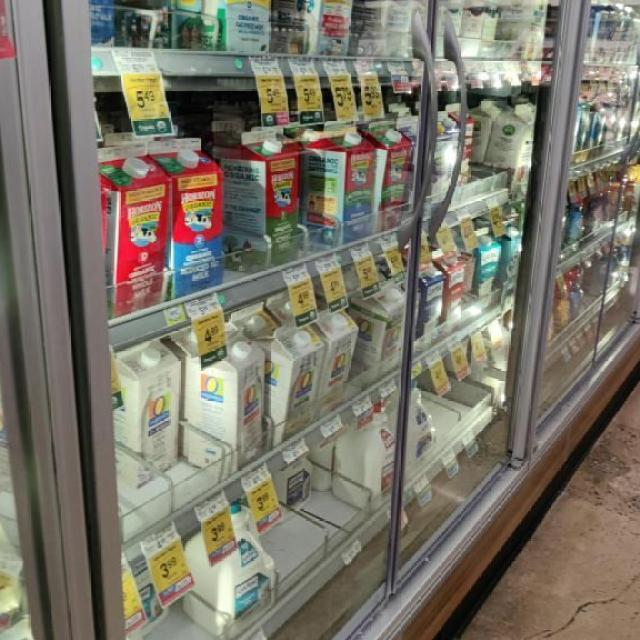Milk: (90, 138, 181, 309), (159, 140, 244, 301), (184, 514, 291, 640), (104, 342, 187, 492), (302, 118, 381, 253), (234, 117, 306, 256), (180, 347, 259, 472), (256, 324, 324, 456), (276, 0, 361, 74), (354, 268, 408, 374)
